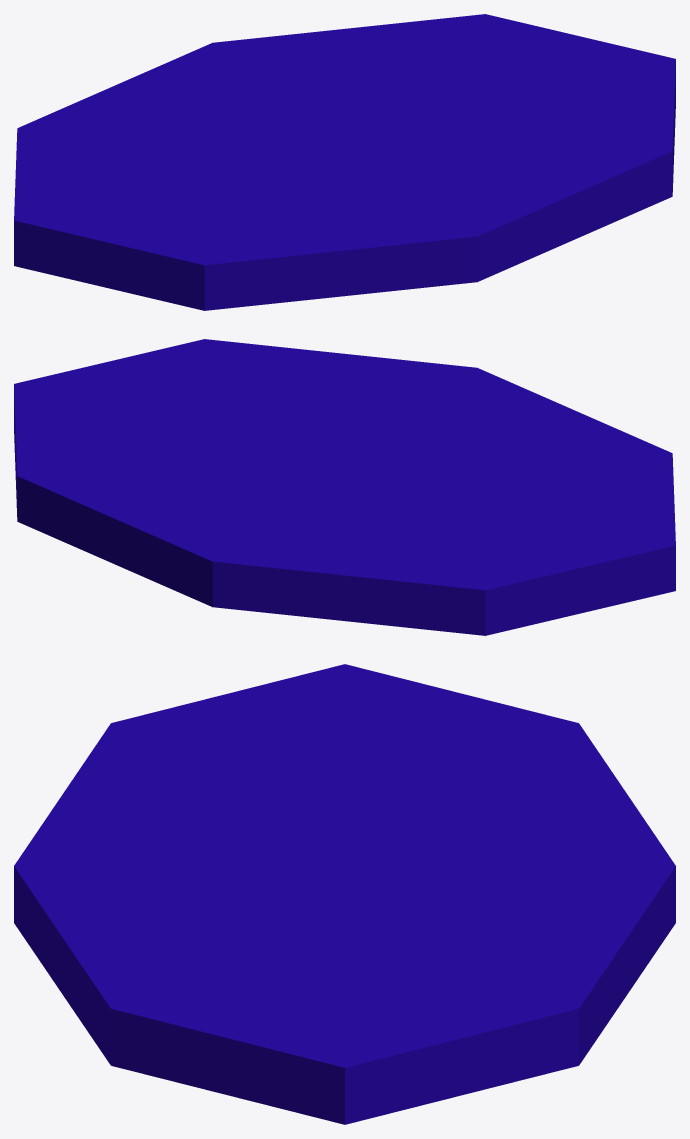
Rendered from Fountain_Water.fbx.
3 views of the same model, one above another, from view 1: azimuth 30°, elevation 25°; view 2: azimuth 150°, elevation 25°; view 3: azimuth 270°, elevation 25° (orthographic). The views are drawn at different scales.
Parts seen in each view (by area): view 1: Water_F; view 2: Water_F; view 3: Water_F.
Part boxes in pixels (box(x1,y1,x2,y2)): Water_F: box(14, 14, 675, 310); Water_F: box(14, 339, 675, 635); Water_F: box(14, 664, 675, 1124).
Bounding box in the file's own units: 0.0333 × 0.00219 × 0.0231.
